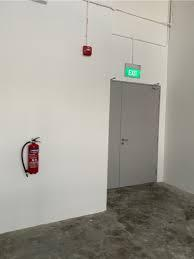exit: (109, 79, 160, 189)
lit_exit_sign: (124, 69, 140, 79)
